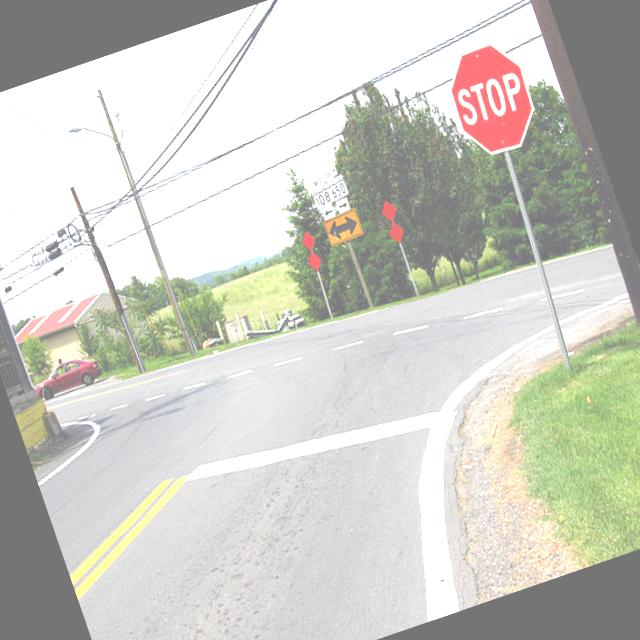Vehicle: (30, 350, 106, 403), (284, 310, 307, 330), (200, 334, 223, 351)
